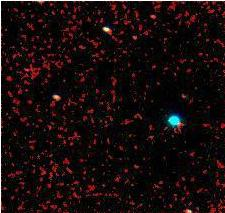star: (135, 5, 165, 35)
